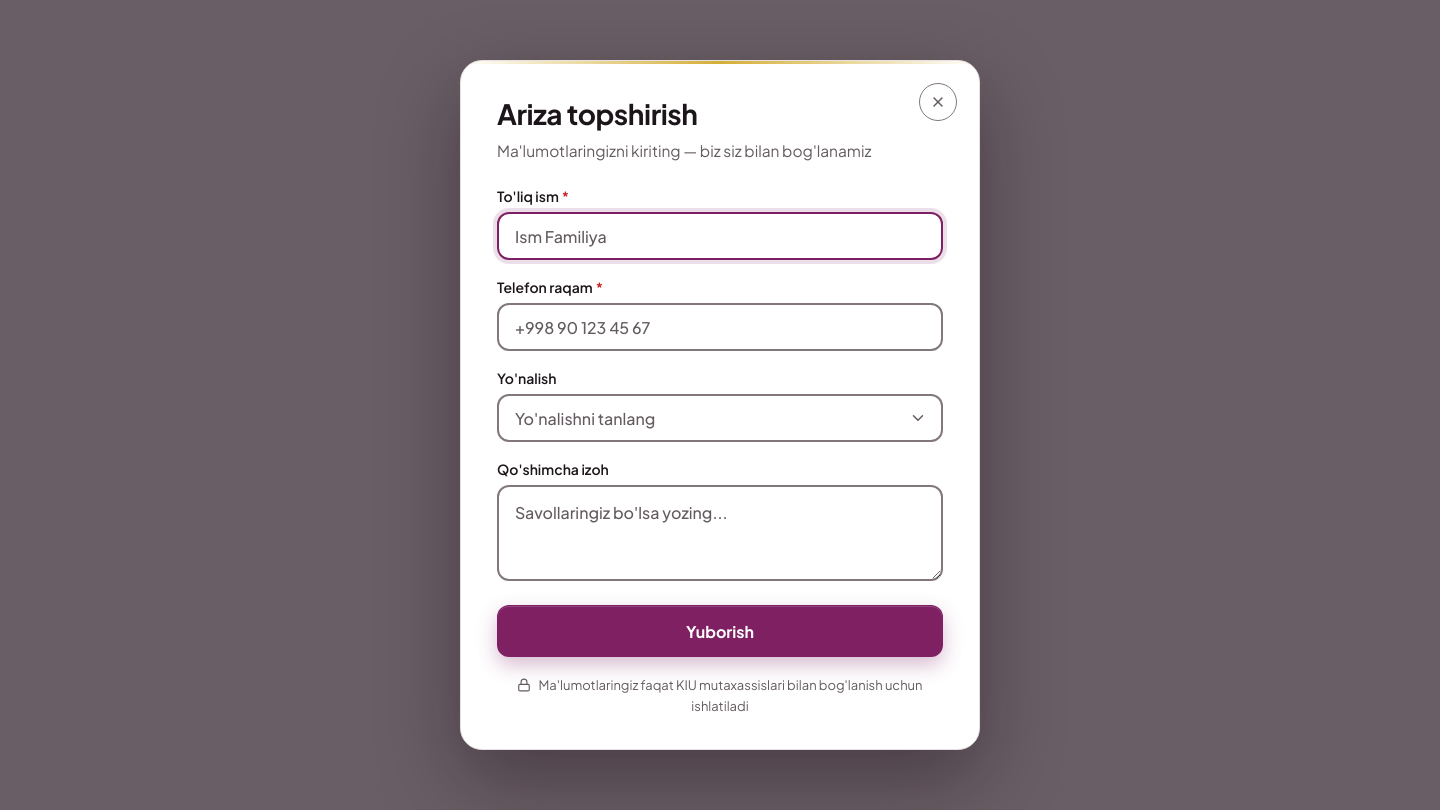
Test case: ApplyModal › noto'g'ri ism va telefon — mos xabarlar
Type "Ali" into the field with placeholder "Ism Familiya" at (720, 236), box 497,212 -> 943,260
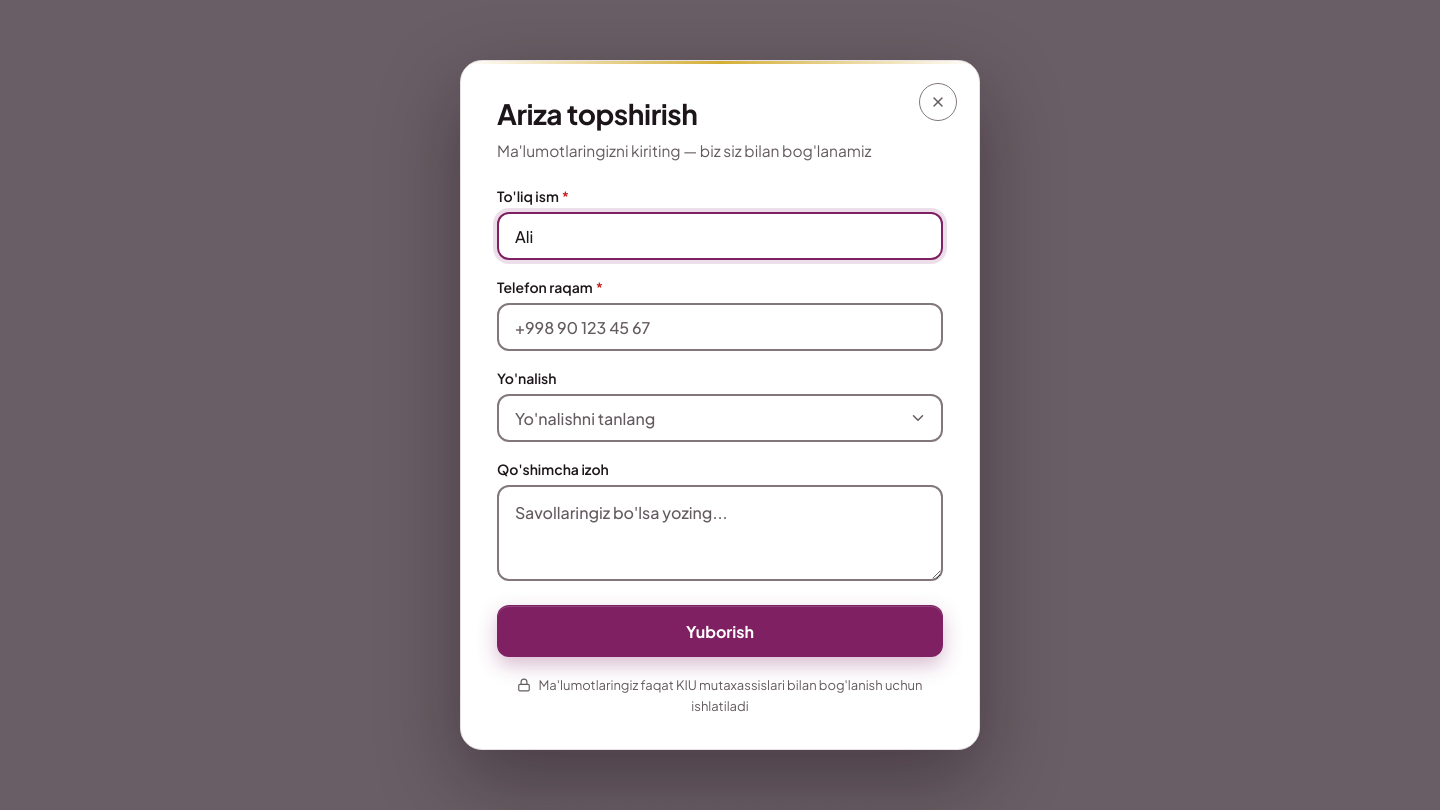
Type "123" into the field with placeholder "+998 90 123 45 67" at (720, 327), box 497,303 -> 943,351
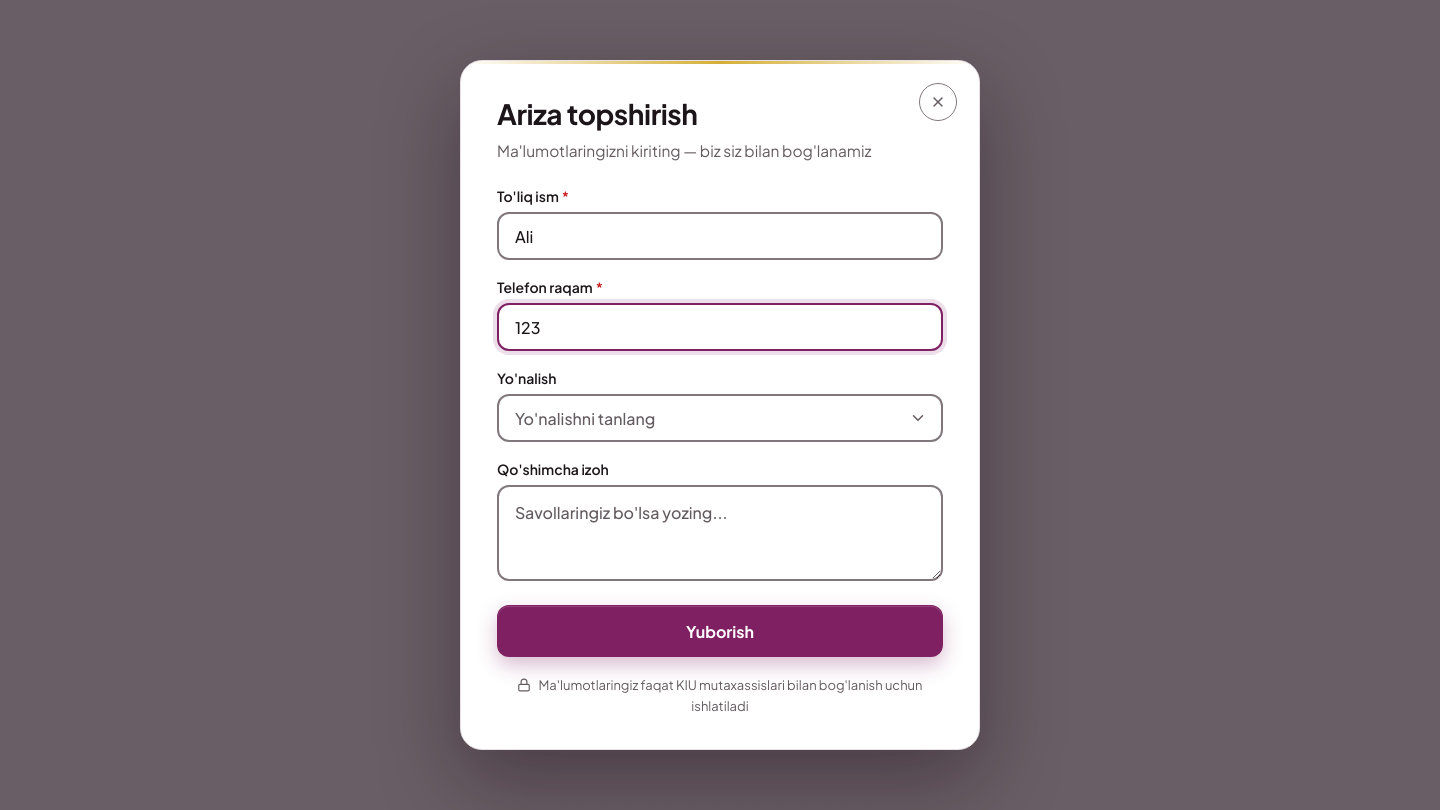
Click the button "Yuborish" at (720, 631), box 497,605 -> 943,657
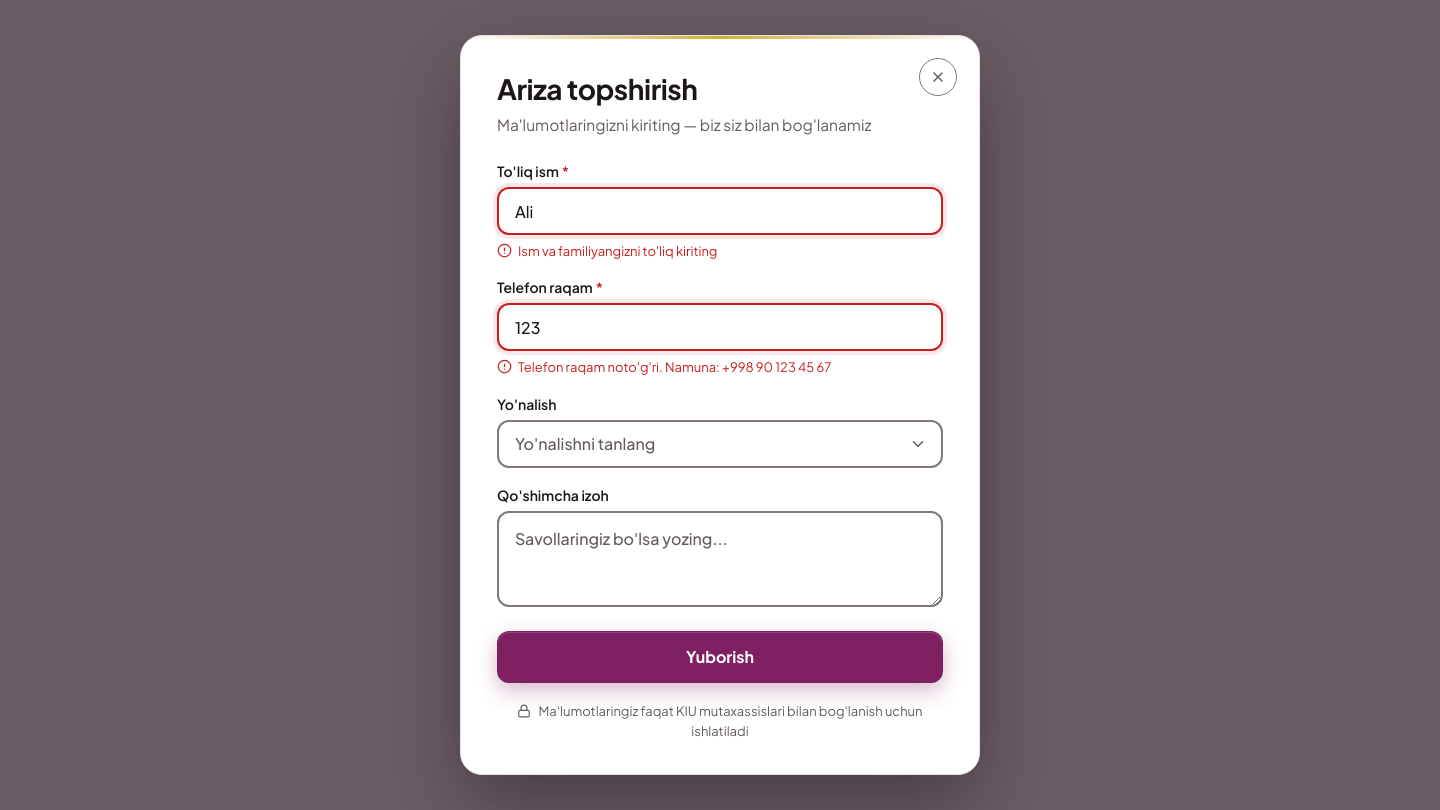
Result: the text "Ism va familiyangizni to'liq kiriting" is shown at 518,242 -> 718,260
Result: the text "Telefon raqam noto'g'ri. Namuna: +998 90 123 45 67" is shown at 518,358 -> 831,377
